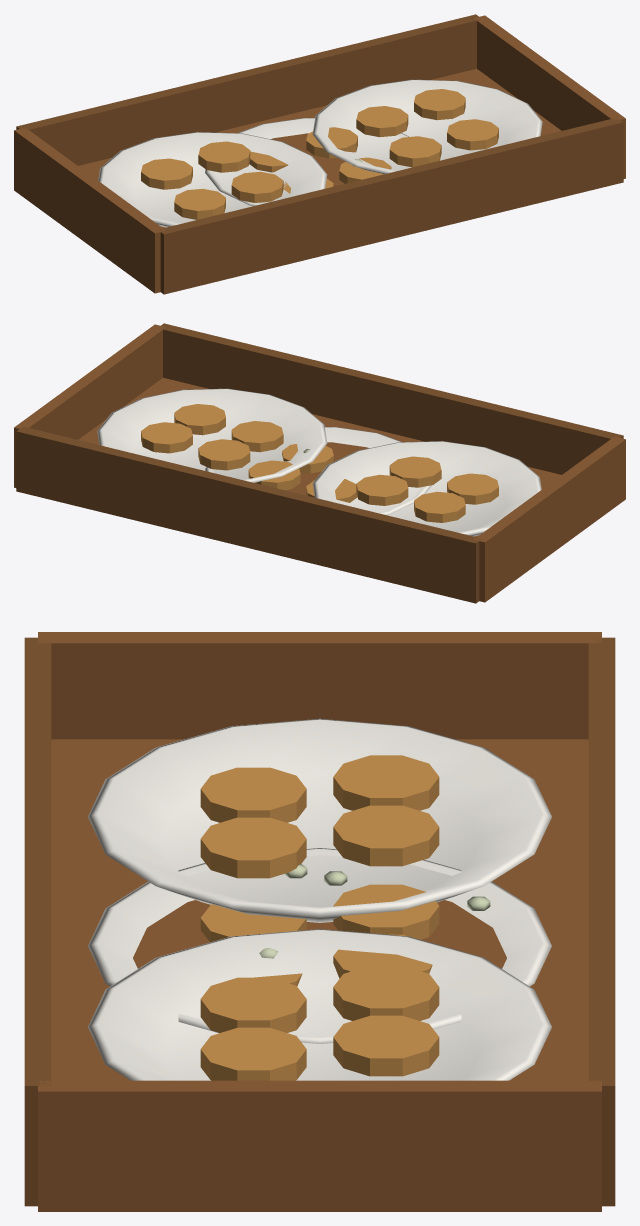
Rendered from Dessert_Cookie.fbx.
3 views of the same model, one above another, from view 1: azimuth 30°, elevation 25°; view 2: azimuth 150°, elevation 25°; view 3: azimuth 270°, elevation 25° (orthographic). The views are drawn at different scales.
Parts seen in each view (by area): view 1: Dessert_Cookie__Stack, Dessert_Cookie; view 2: Dessert_Cookie__Stack, Dessert_Cookie; view 3: Dessert_Cookie__Stack, Dessert_Cookie, Dessert_Cookie__Rotten.
Part boxes in pixels (x1,y1,x2,y2): Dessert_Cookie__Stack: (14,14,625,294); Dessert_Cookie: (205,118,409,206); Dessert_Cookie__Stack: (14,323,625,603); Dessert_Cookie: (205,427,431,515); Dessert_Cookie__Stack: (24,632,615,1211); Dessert_Cookie: (88,848,551,1043); Dessert_Cookie__Rotten: (259,864,490,958).
Size of the model in its own units: 0.328 by 0.04 by 0.178.
